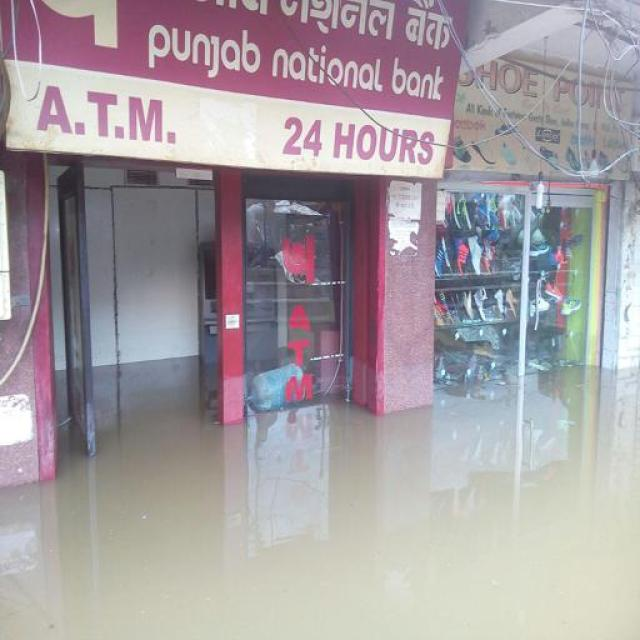puddle: (10, 492, 639, 640), (129, 417, 639, 543)
